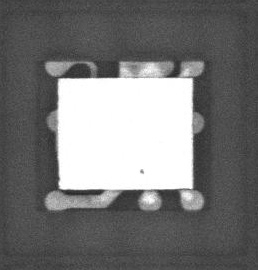DIE_INK: (132, 175, 140, 183)
